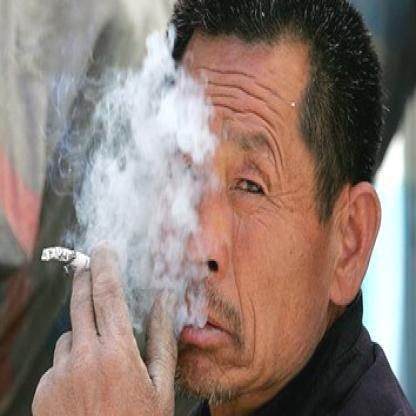cigarette: (40, 245, 90, 273)
person: (158, 0, 414, 414)
smoke: (73, 34, 210, 320)
